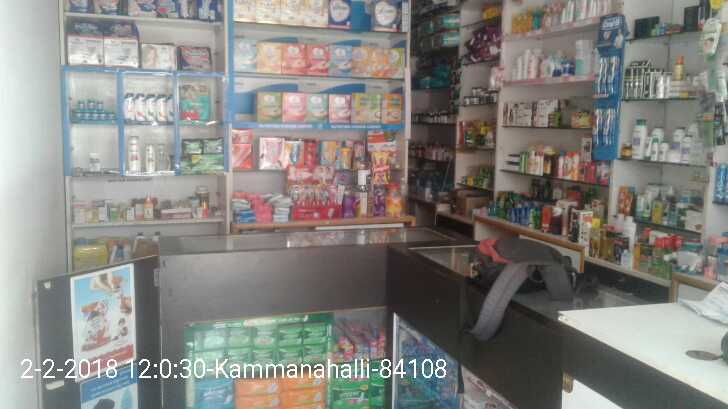beauty: (126, 134, 142, 174), (121, 91, 134, 124), (143, 143, 155, 175), (132, 96, 145, 123), (145, 94, 156, 124), (87, 147, 100, 171), (155, 96, 166, 123), (166, 89, 174, 120)
pharmacy: (177, 84, 211, 120), (68, 95, 115, 121), (183, 154, 227, 171), (181, 135, 204, 155), (203, 136, 224, 155)
